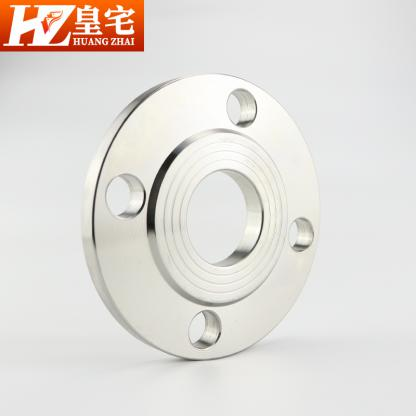FOD: (78, 70, 329, 363)
